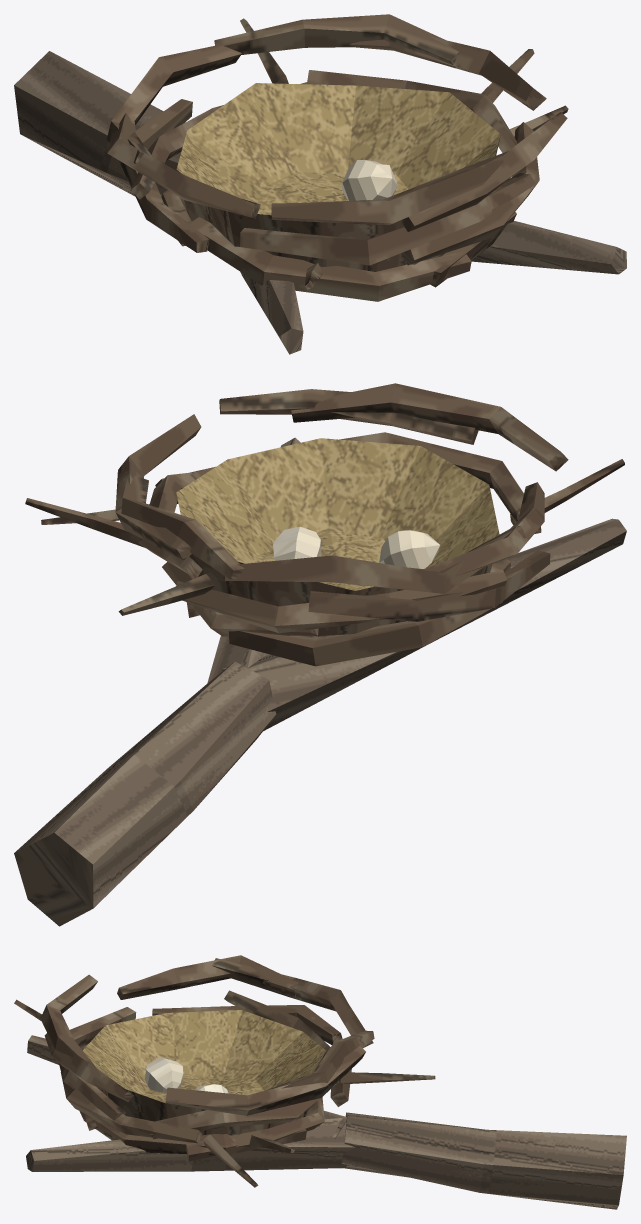
File: nest_tree.fbx
3 views of the same model, one above another, from view 1: azimuth 30°, elevation 25°; view 2: azimuth 150°, elevation 25°; view 3: azimuth 270°, elevation 25° (orthographic). The views are drawn at different scales.
Visible parts, largest first — view 1: nest_tree; view 2: nest_tree; view 3: nest_tree.
Part boxes in pixels (box(x1,y1,x2,y2)): nest_tree: box(14, 14, 626, 354); nest_tree: box(14, 383, 626, 926); nest_tree: box(14, 955, 626, 1209).
Bounding box in the file's own units: 45.89 × 23.94 × 70.47.
